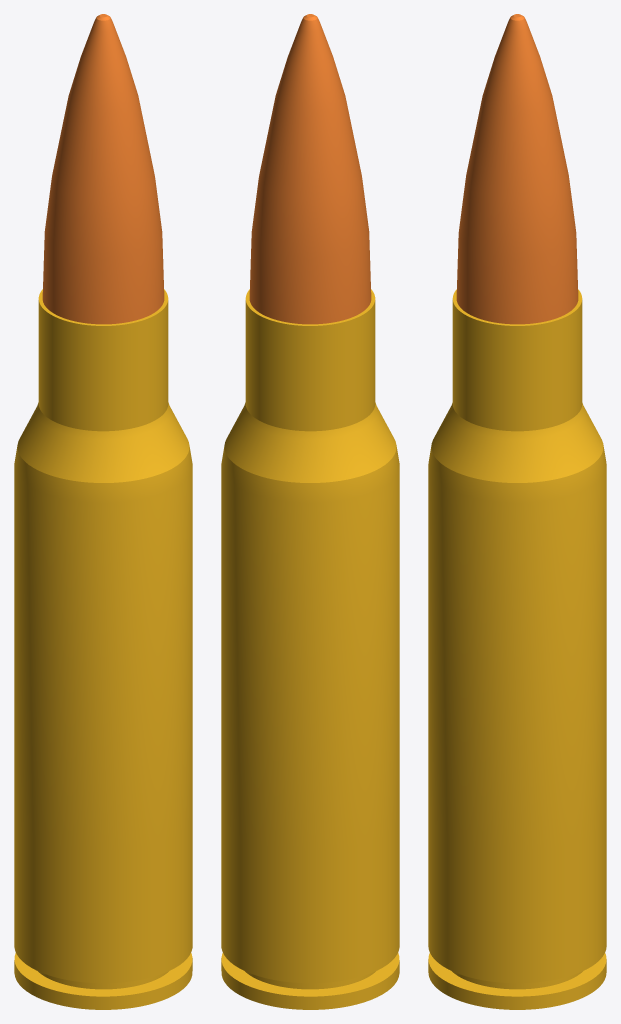
File: bullet.fbx
The picture shows the model from 3 angles, left to right: view 1: azimuth 30°, elevation 25°; view 2: azimuth 150°, elevation 25°; view 3: azimuth 270°, elevation 25°; orthographic projection.
Visible parts, largest first — view 1: Cylinder; view 2: Cylinder; view 3: Cylinder.
Boxes of the visible parts, x1,y1,x2,y2 form: Cylinder: [14, 14, 192, 1009]; Cylinder: [221, 14, 399, 1009]; Cylinder: [428, 14, 606, 1009].
Bounding box in the file's own units: 67.23 × 398 × 67.23.
Materials: 1 (1 with a texture image).
